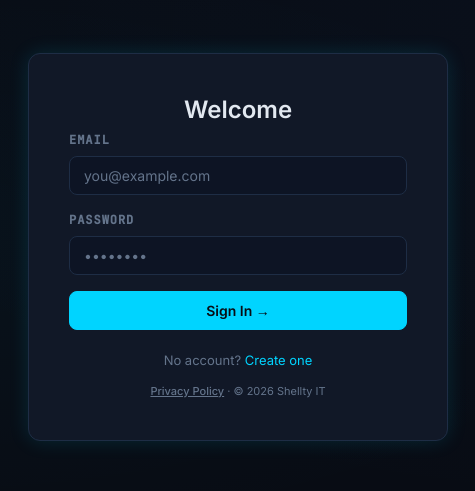
it: LoginPage › shows error message on failed login
Type "wrong@test.com" into the field labelled "Email" at (238, 175), box [69,156,407,195]
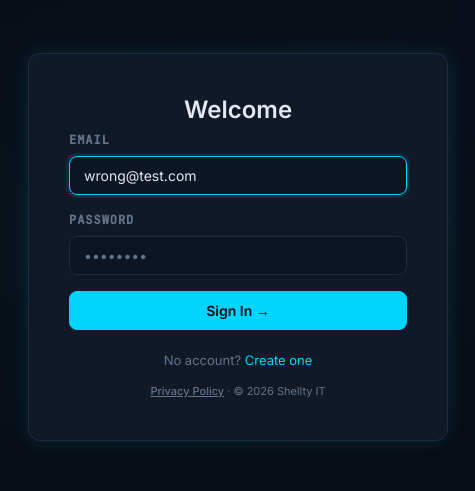
Type "wrongpass" into the password field labelled "Password" at (238, 256), box [69,236,407,275]
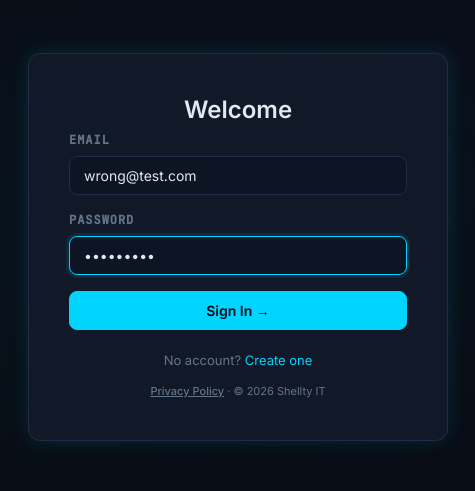
Click the button "Sign In →" at (238, 311), box [69,291,407,330]
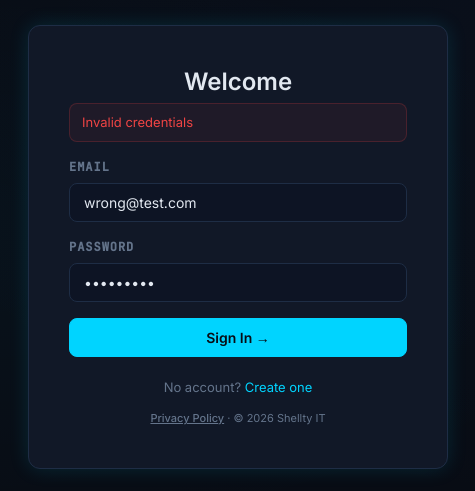
Expected: the text "Invalid credentials" is shown, [69,103,407,142]
